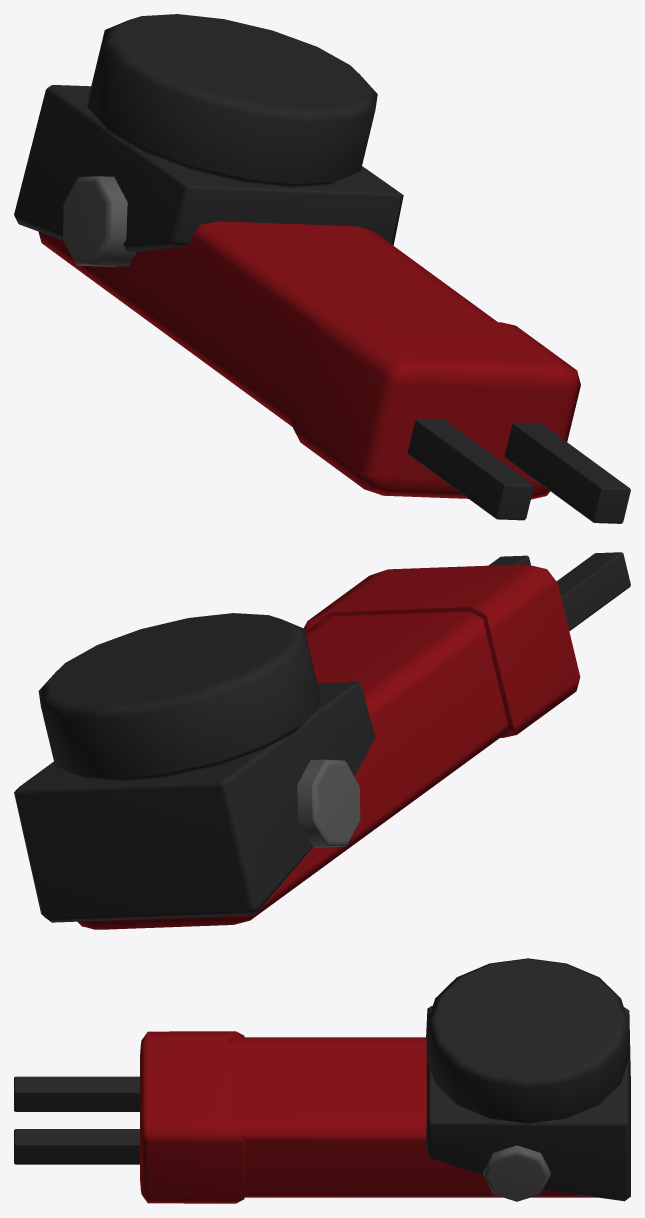
The model's file is Ship_Boos_01_Weapon_L_02.fbx.
The picture shows the model from 3 angles, top to bottom: view 1: azimuth 30°, elevation 25°; view 2: azimuth 150°, elevation 25°; view 3: azimuth 270°, elevation 25°; orthographic projection. The views are drawn at different scales.
Parts seen in each view (by area): view 1: Ship_Boos_01_Weapon_L_02; view 2: Ship_Boos_01_Weapon_L_02; view 3: Ship_Boos_01_Weapon_L_02.
Boxes of the visible parts, x1,y1,x2,y2 form: Ship_Boos_01_Weapon_L_02: [14, 14, 630, 523]; Ship_Boos_01_Weapon_L_02: [14, 552, 630, 929]; Ship_Boos_01_Weapon_L_02: [14, 958, 630, 1203].
Size of the model in its own units: 172 by 155 by 446.
